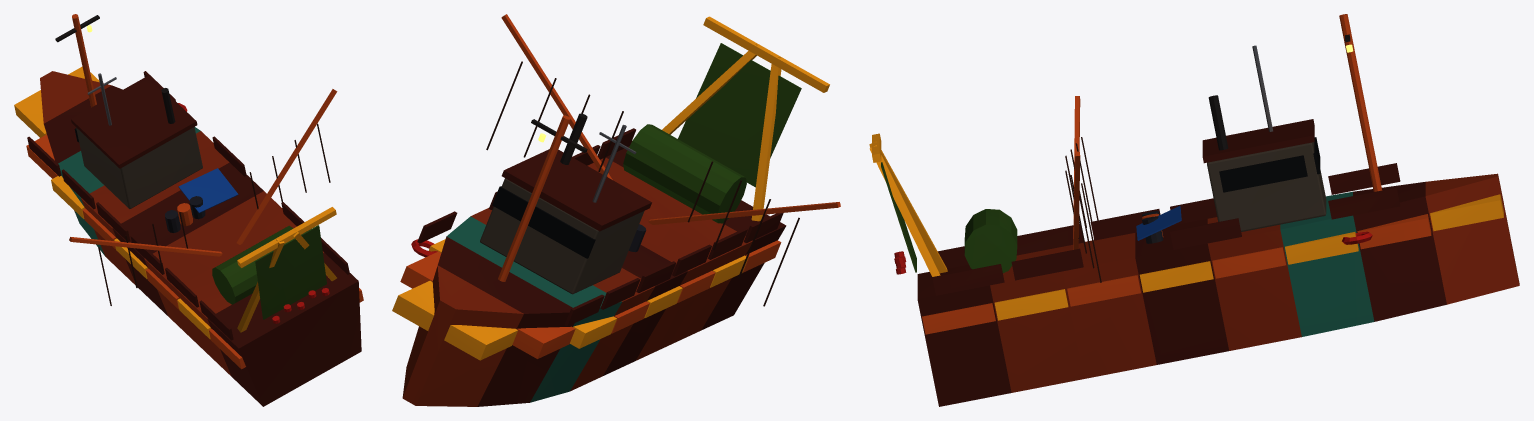
File: tb_trawler_wreck.glb
The picture shows the model from 3 angles, left to right: view 1: azimuth 30°, elevation 25°; view 2: azimuth 150°, elevation 25°; view 3: azimuth 270°, elevation 25°; orthographic projection. The views are drawn at different scales.
Visible parts, largest first — view 1: trawler_body; view 2: trawler_body; view 3: trawler_body.
Boxes of the visible parts, bbox=[...] form: trawler_body: bbox=[14, 14, 363, 406]; trawler_body: bbox=[392, 14, 840, 406]; trawler_body: bbox=[869, 14, 1519, 406].
Bounding box in the file's own units: 14.63 × 14.58 × 24.19.
